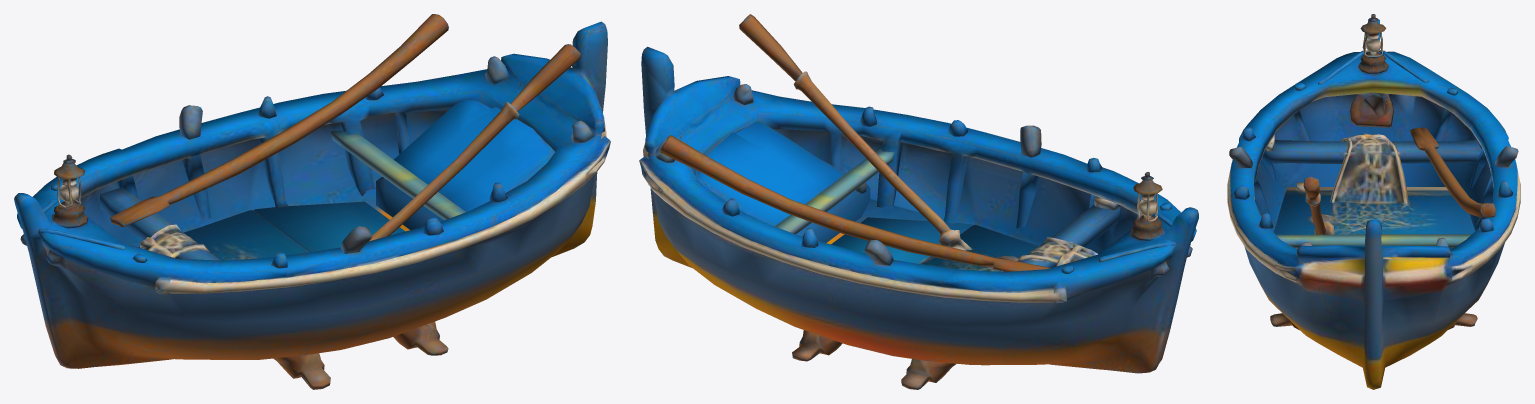
Rendered from fishing_boat.glb.
3 renders of one model, left to right at view 1: azimuth 30°, elevation 25°; view 2: azimuth 150°, elevation 25°; view 3: azimuth 270°, elevation 25°, orthographic. The views are drawn at different scales.
Parts seen in each view (by area): view 1: tripo_node_eabf651b-28db-469f-8718-2e7e93e3653f; view 2: tripo_node_eabf651b-28db-469f-8718-2e7e93e3653f; view 3: tripo_node_eabf651b-28db-469f-8718-2e7e93e3653f.
Part boxes in pixels (x1,y1,x2,y2): tripo_node_eabf651b-28db-469f-8718-2e7e93e3653f: [14, 14, 610, 389]; tripo_node_eabf651b-28db-469f-8718-2e7e93e3653f: [639, 14, 1198, 389]; tripo_node_eabf651b-28db-469f-8718-2e7e93e3653f: [1227, 14, 1520, 389].
Bounding box in the file's own units: 0.998 × 0.4316 × 0.5332.
1 material, 1 textured.
